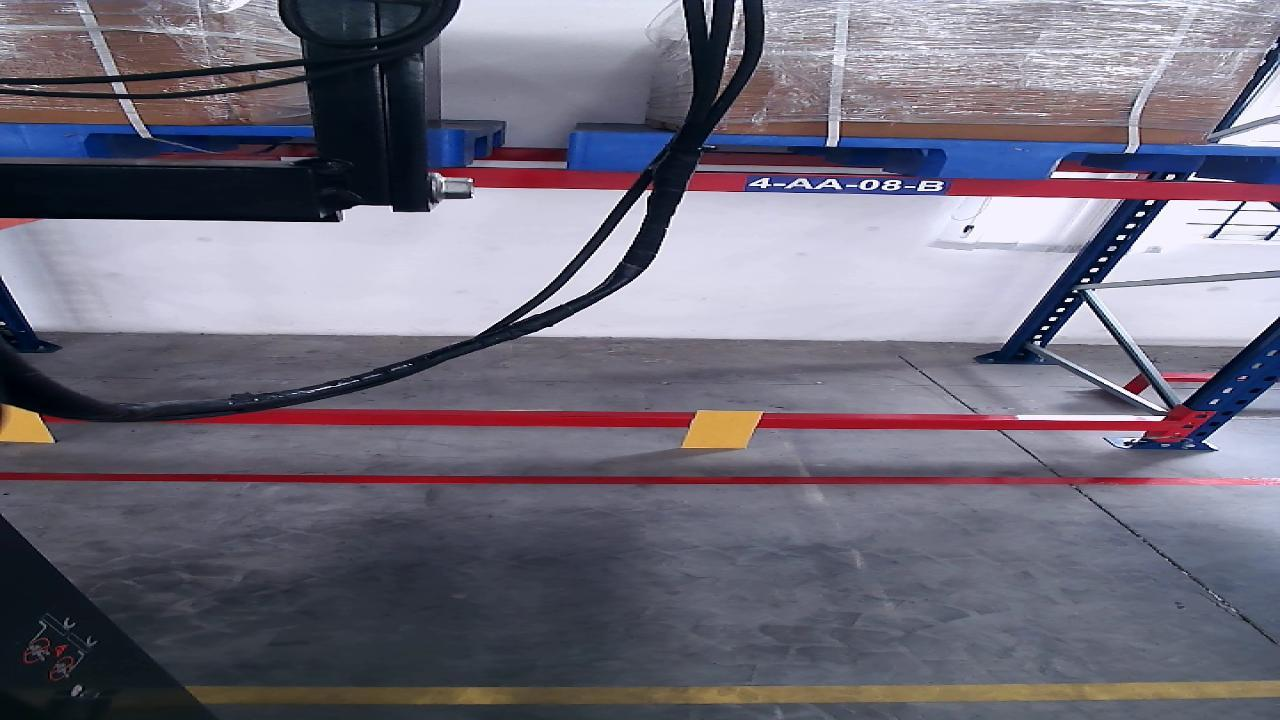h_rack: (471, 169, 1272, 201), (179, 413, 1168, 431)
orange_strip: (685, 412, 764, 447)
red_line: (3, 472, 1280, 485)
small_pallet: (568, 133, 1274, 184), (4, 126, 456, 166)
yellow_line: (182, 680, 1277, 702)
